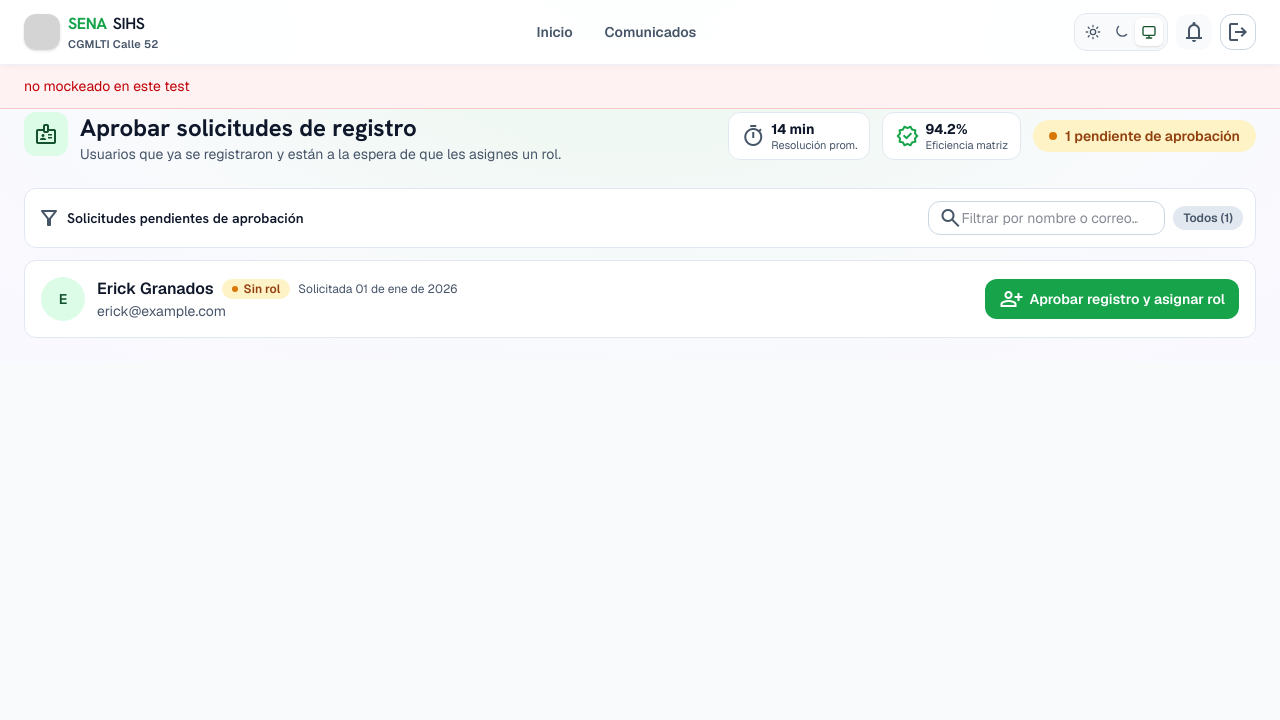
AprobarlicitarSolicitudes › si falla la generación del código, el rol igual queda asignado y avisa dónde generarlo
The width and height of the screenshot is (1280, 720).
Step 1. Click the button "Aprobar registro y asignar rol" → [1112, 299], box [986, 279, 1239, 319]
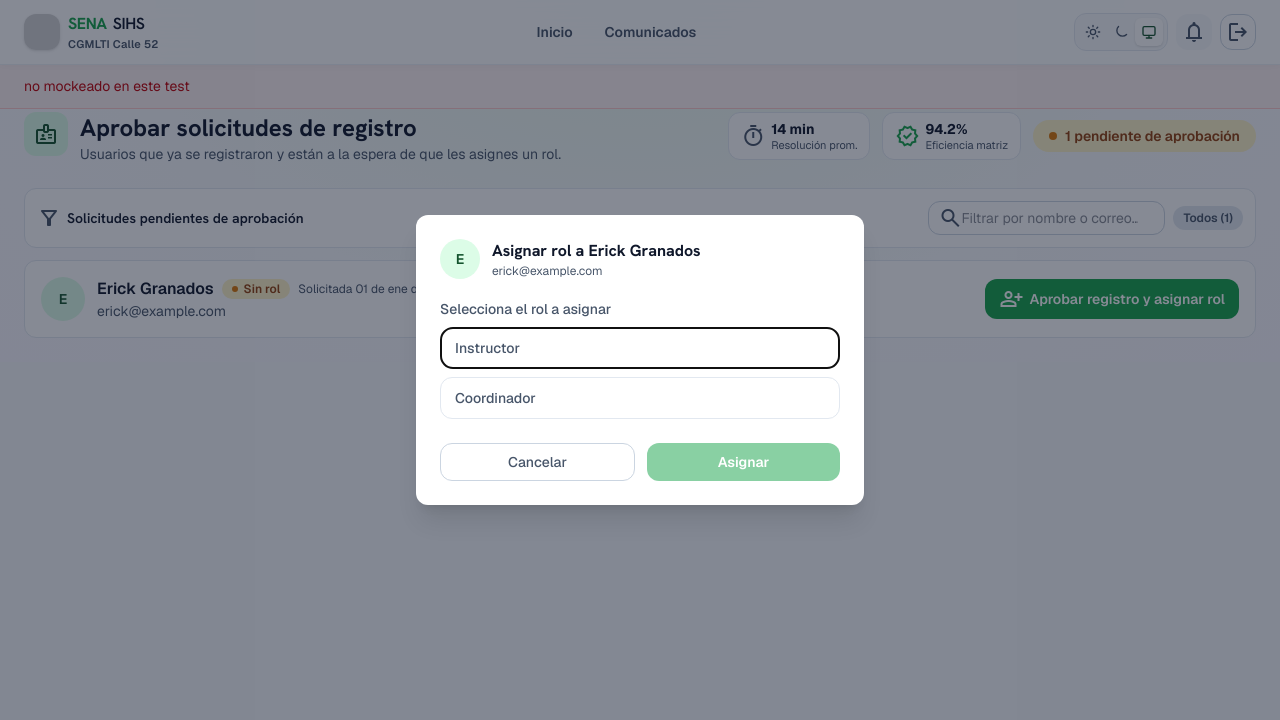
Step 2. Click the button "Instructor" → [487, 348], box [440, 327, 840, 369]
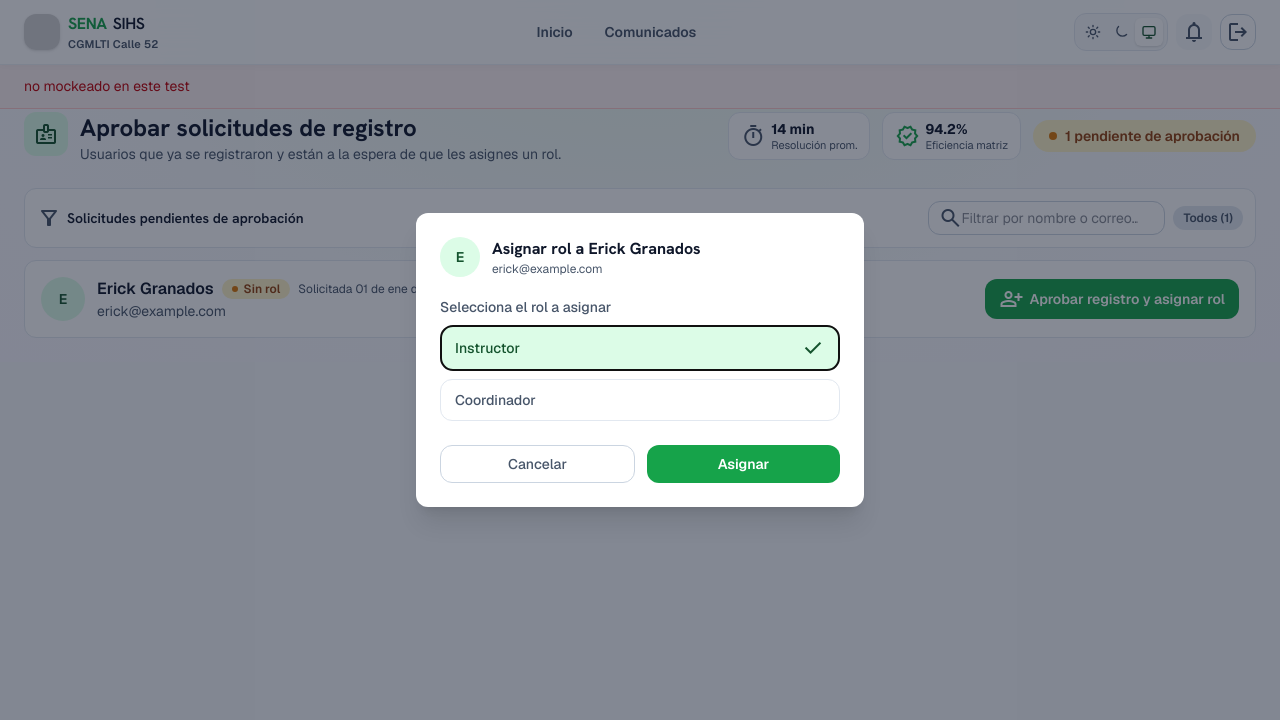
Step 3. Click the button "Asignar" → [744, 464], box [647, 445, 840, 483]
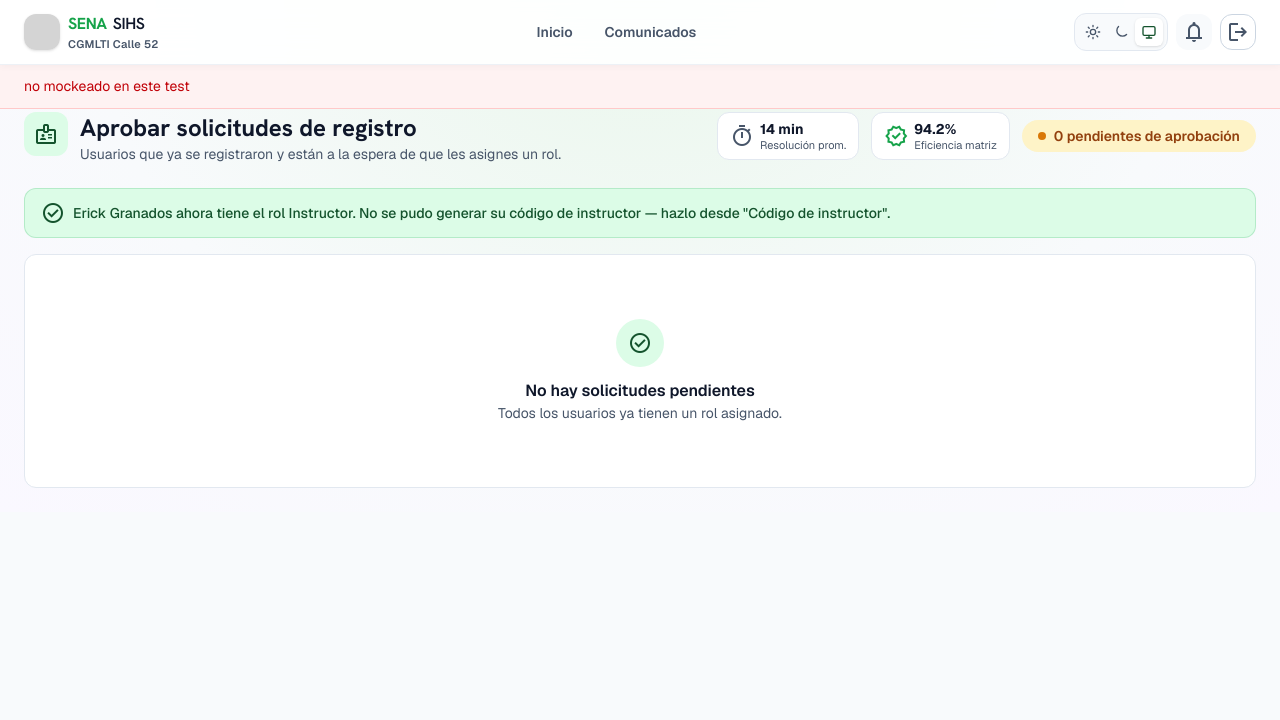
Now the text "No se pudo generar su código de instructor" is shown, box [73, 204, 890, 222]
